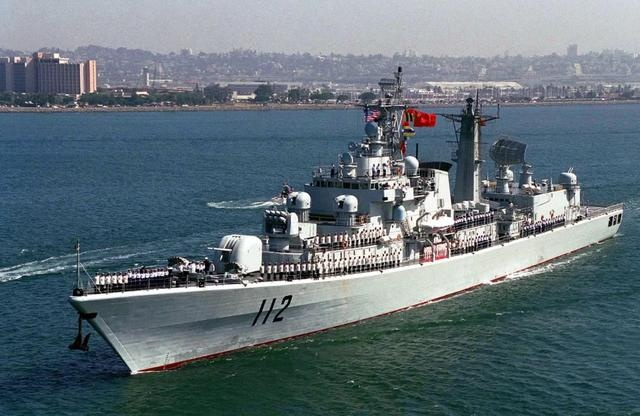warship: (54, 63, 630, 370)
